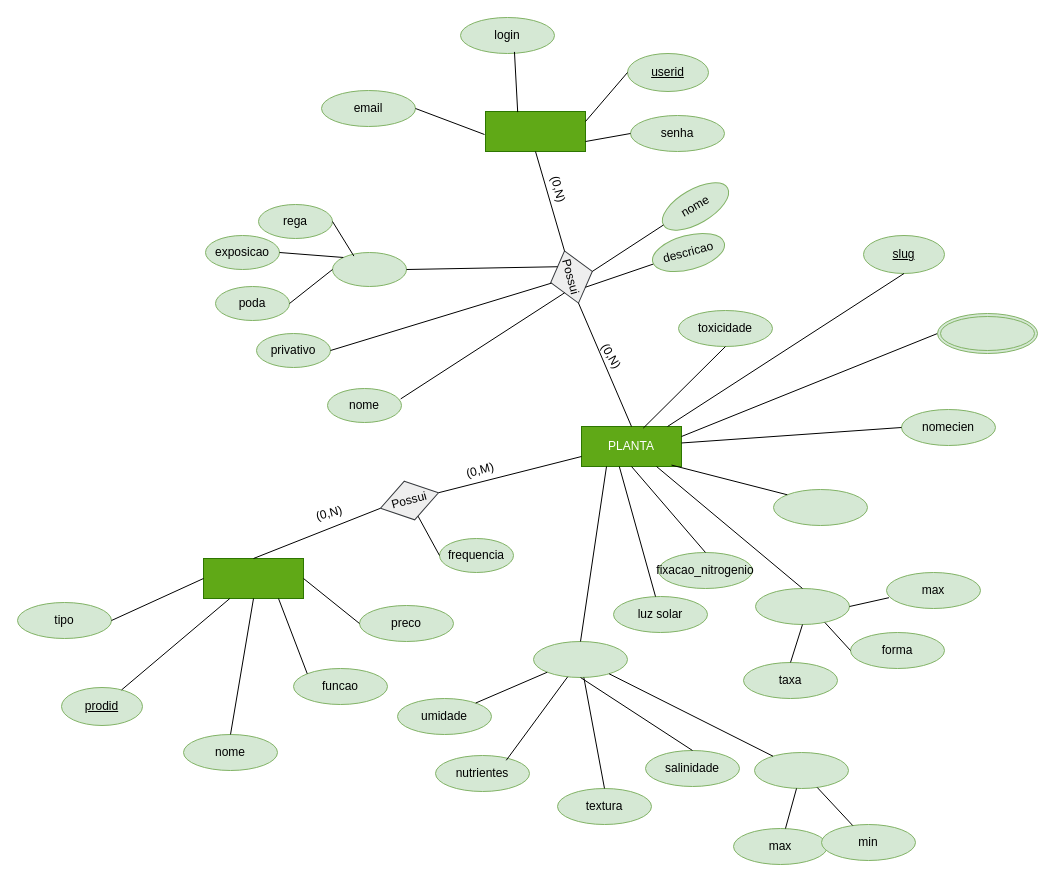
Some shapes in this 1055 by 882 pixel diagram are drawn without their labels. Each missing label, with the centre of its shape:
"crescimento" belongs at [802,606].
"imagem_url" belongs at [820,507].
"nomes_pop" belongs at [987,333].
"padroes" belongs at [369,269].
"ph" belongs at [801,770].
"PRODUTO" belongs at [253,578].
"solo" belongs at [580,659].
"USUARIO" belongs at [535,131].
